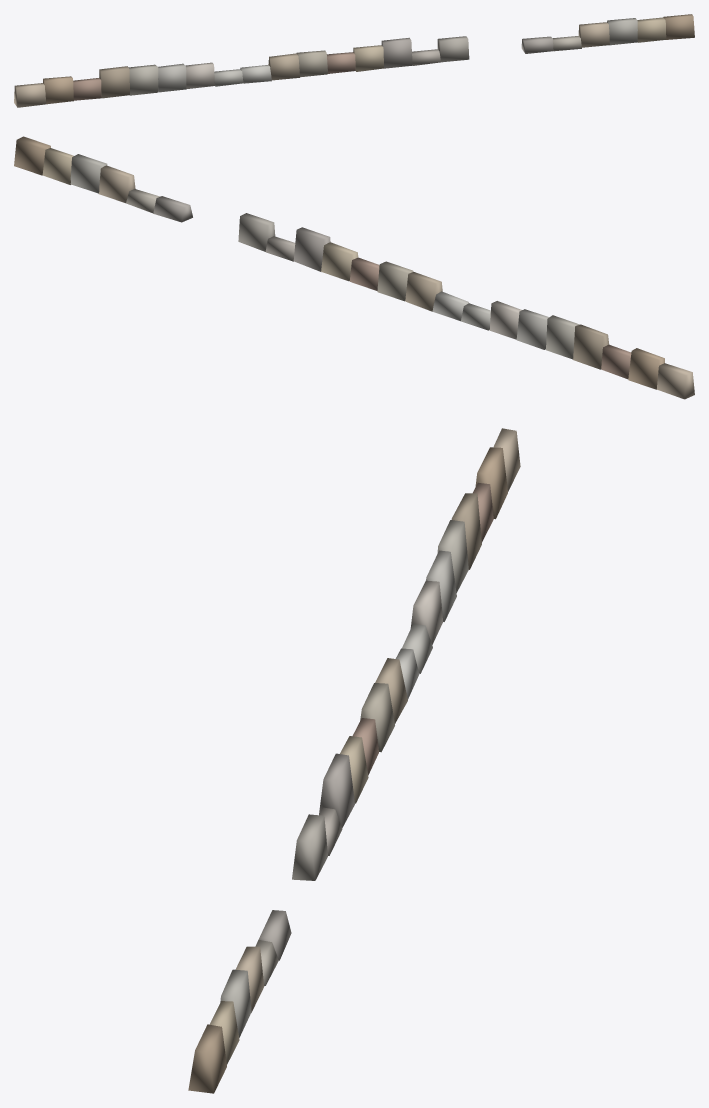
The model's file is farm_-3_2_far.glb.
3 views of the same model, one above another, from view 1: azimuth 30°, elevation 25°; view 2: azimuth 150°, elevation 25°; view 3: azimuth 270°, elevation 25° (orthographic). The views are drawn at different scales.
Visible parts, largest first — view 1: geometry_0; view 2: geometry_0; view 3: geometry_0.
Part boxes in pixels (bbox=[...]): geometry_0: bbox=[14, 14, 694, 107]; geometry_0: bbox=[14, 136, 694, 399]; geometry_0: bbox=[188, 428, 520, 1093].
Bounding box in the file's own units: 37.31 × 2.57 × 8.9.
